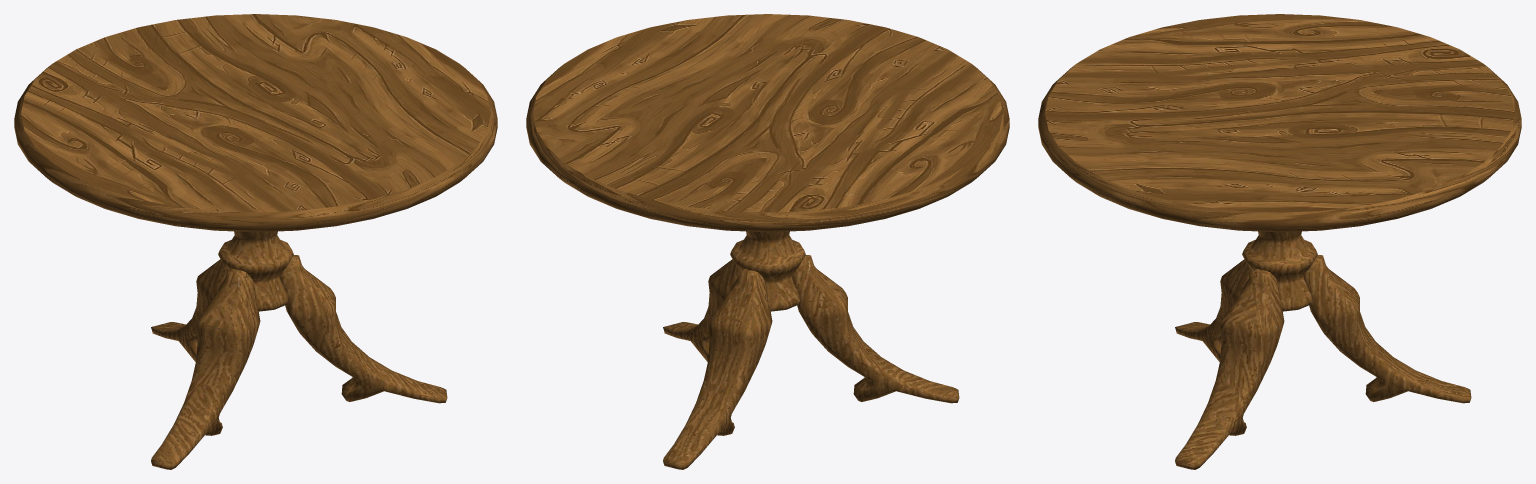
The model's file is coffeeTable.glb.
3 renders of one model, left to right at view 1: azimuth 30°, elevation 25°; view 2: azimuth 150°, elevation 25°; view 3: azimuth 270°, elevation 25°, orthographic.
Parts seen in each view (by area): view 1: top, Null; view 2: top, Null; view 3: top, Null.
Boxes of the visible parts, x1,y1,x2,y2 form: top: (14, 14, 497, 232); Null: (151, 231, 447, 469); top: (526, 14, 1009, 232); Null: (663, 231, 959, 469); top: (1038, 14, 1521, 232); Null: (1175, 231, 1471, 469).
Size of the model in its own units: 2.28 by 1.49 by 2.28.
Materials: 2 (2 with a texture image).
